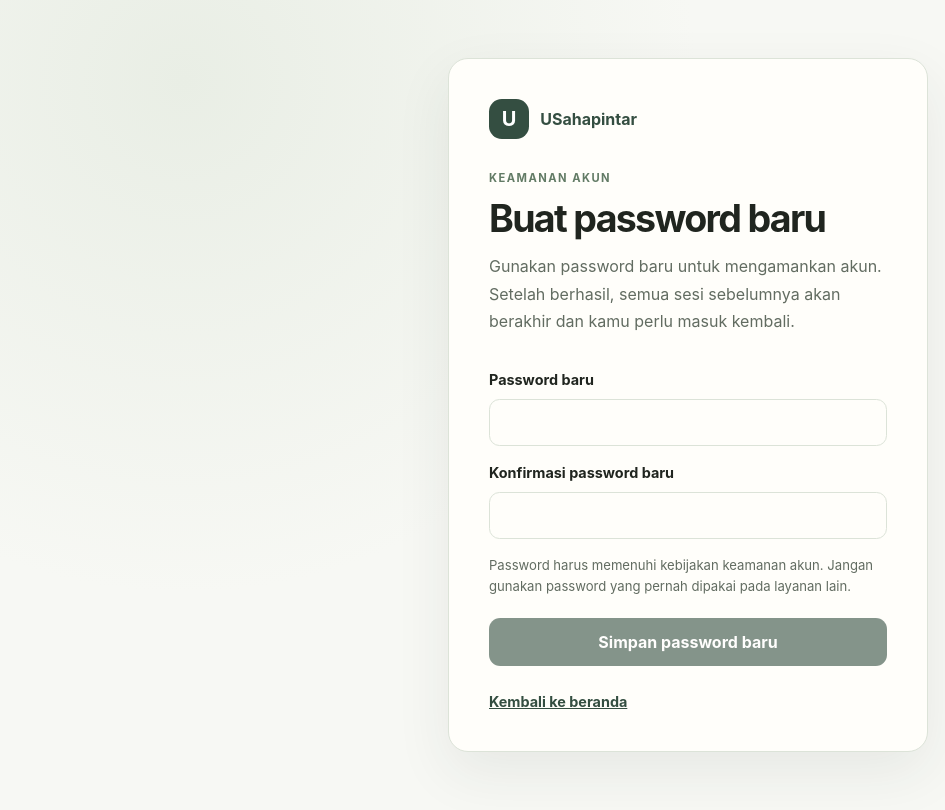
it: ResetPasswordPage › does not send a request when the password confirmation differs
Step 1. Type "a-strong-new-password" into the password field labelled "Password baru" → (688, 422), box [489,399,887,446]
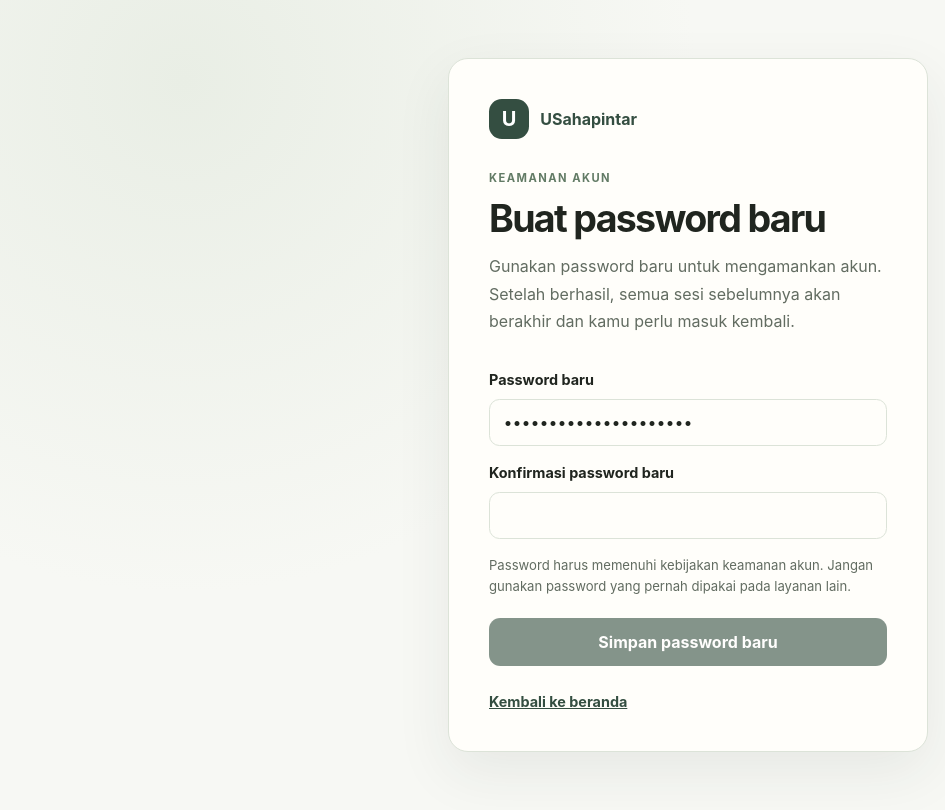
Step 2. Type "a-different-password" into the password field labelled "Konfirmasi password baru" → (688, 515), box [489,492,887,538]
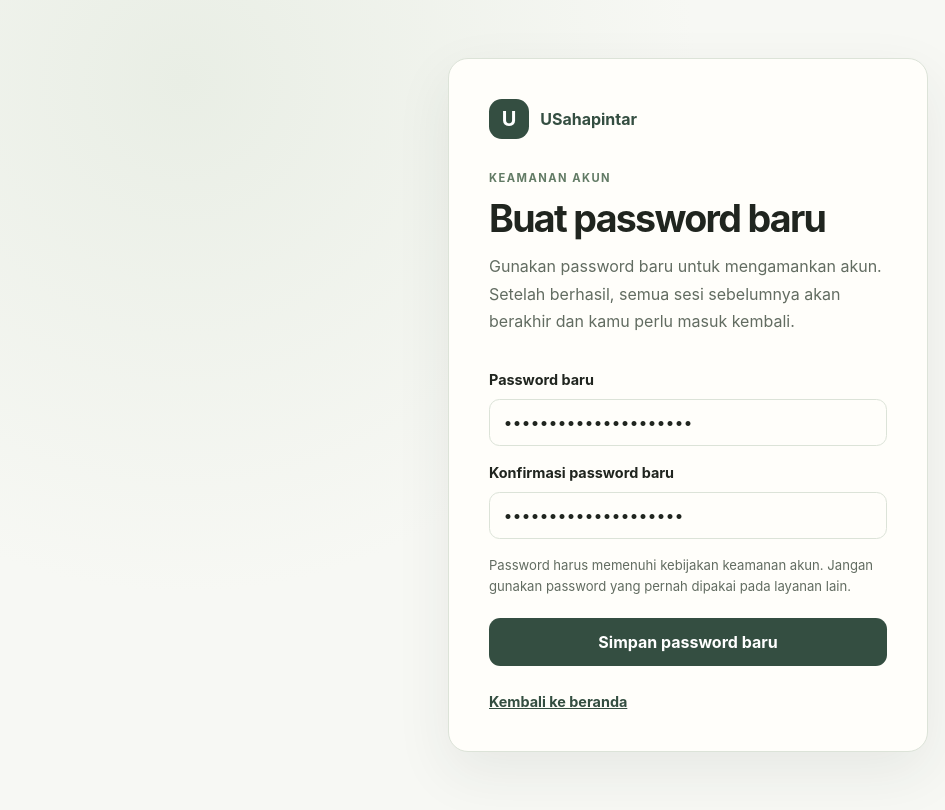
Step 3. Click the button "Simpan password baru" → (688, 642), box [489,618,887,666]
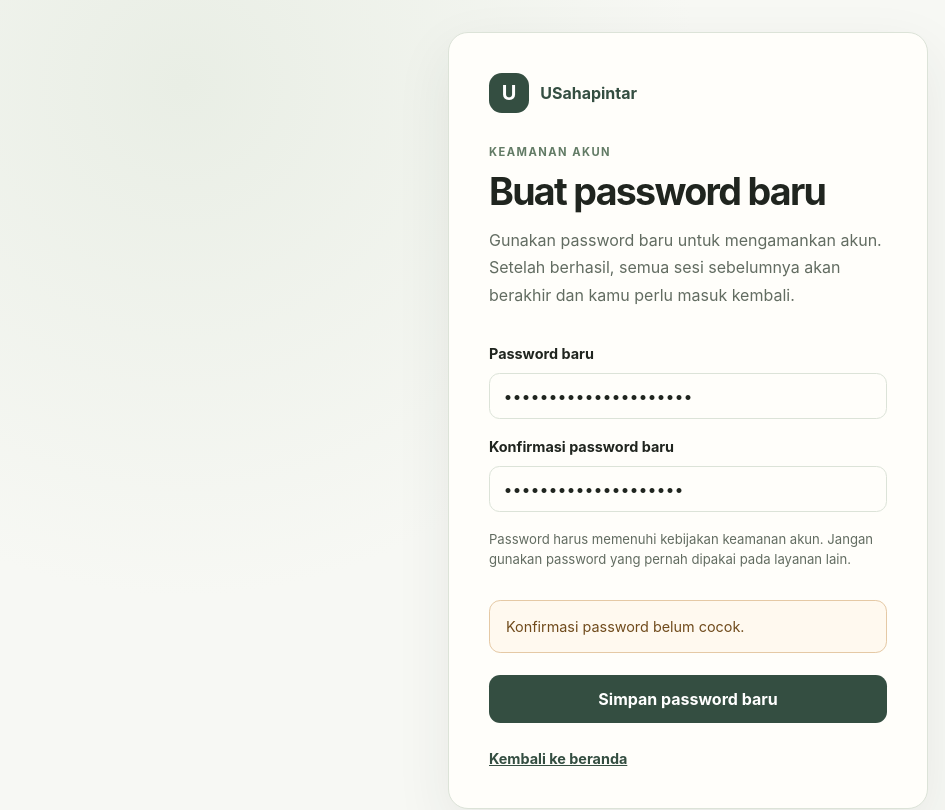
expect the message reads "Konfirmasi password belum cocok.": met, box [506,618,744,634]
